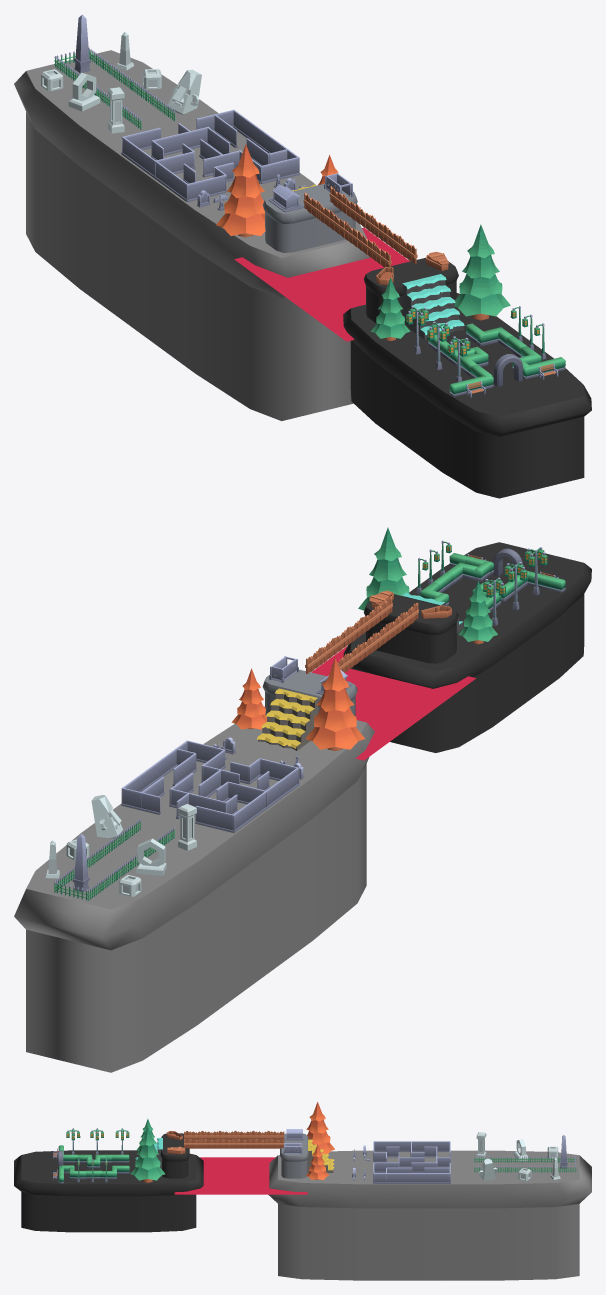
The model's file is shadowland.glb.
3 renders of one model, top to bottom at view 1: azimuth 30°, elevation 25°; view 2: azimuth 150°, elevation 25°; view 3: azimuth 270°, elevation 25°, orthographic. The views are drawn at different scales.
Visible parts, largest first — view 1: maze-ground-col, arc-ground-col, maze-walls-col, bridge-liquid, statue_head-col, bridge-far-ground-col, pine-r-col, maze-pine-l-col, bridge-near-stairs-col, bridge-near-ground-col, iron-fence-col, bridge-fence-r-col (+5 smaller); view 2: maze-ground-col, arc-ground-col, maze-walls-col, bridge-liquid, bridge-near-ground-col, statue_head-col, maze-pine-l-col, bridge-far-stairs-col, iron-fence-col, pine-r-col, bridge-fence-r-col, bridge-far-ground-col (+5 smaller); view 3: maze-ground-col, arc-ground-col, maze-walls-col, bridge-liquid, statue_head-col, pine-r-col, bridge-fence-r-col, bridge-near-ground-col, iron-fence-col, bridge-far-ground-col, bridge-fence-l-col, maze-pine-l-col (+4 smaller).
Boxes of the visible parts, left/top/right/bottom form: maze-ground-col: left=14, top=50, right=370, bottom=421; arc-ground-col: left=343, top=293, right=591, bottom=498; maze-walls-col: left=121, top=109, right=299, bottom=202; bridge-liquid: left=234, top=227, right=409, bottom=341; statue_head-col: left=41, top=32, right=201, bottom=133; bridge-far-ground-col: left=262, top=184, right=357, bottom=252; pine-r-col: left=454, top=224, right=510, bottom=320; maze-pine-l-col: left=216, top=144, right=265, bottom=237; bridge-near-stairs-col: left=402, top=274, right=464, bottom=339; bridge-near-ground-col: left=364, top=257, right=458, bottom=323; iron-fence-col: left=54, top=47, right=175, bottom=129; bridge-fence-r-col: left=329, top=186, right=417, bottom=263; maze-ground-col: left=14, top=720, right=374, bottom=1072; arc-ground-col: left=343, top=542, right=591, bottom=752; maze-walls-col: left=121, top=740, right=299, bottom=832; bridge-liquid: left=264, top=646, right=476, bottom=760; bridge-near-ground-col: left=363, top=594, right=458, bottom=663; statue_head-col: left=45, top=795, right=196, bottom=896; maze-pine-l-col: left=305, top=658, right=364, bottom=751; bridge-far-stairs-col: left=257, top=688, right=318, bottom=750; iron-fence-col: left=54, top=819, right=174, bottom=900; pine-r-col: left=358, top=527, right=409, bottom=610; bridge-fence-r-col: left=305, top=596, right=392, bottom=673; bridge-far-ground-col: left=262, top=669, right=357, bottom=715; maze-ground-col: left=268, top=1150, right=591, bottom=1280; arc-ground-col: left=14, top=1150, right=203, bottom=1232; maze-walls-col: left=373, top=1141, right=450, bottom=1183; bridge-liquid: left=174, top=1157, right=307, bottom=1194; statue_head-col: left=476, top=1132, right=560, bottom=1180; pine-r-col: left=130, top=1126, right=165, bottom=1182; bridge-fence-r-col: left=184, top=1138, right=284, bottom=1148; bridge-near-ground-col: left=160, top=1133, right=189, bottom=1178; iron-fence-col: left=474, top=1156, right=576, bottom=1172; bridge-far-ground-col: left=280, top=1133, right=308, bottom=1178; bridge-fence-l-col: left=184, top=1130, right=284, bottom=1140; maze-pine-l-col: left=306, top=1102, right=334, bottom=1153.
Size of the model in its own units: 106 by 188 by 652.
Materials: 134 (111 with a texture image).
